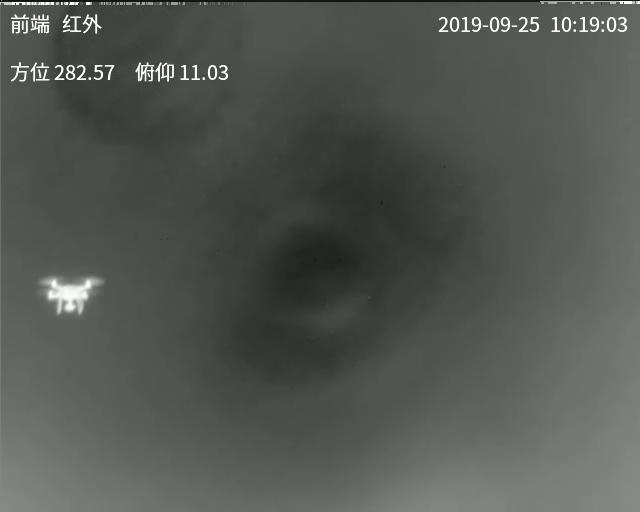uav: (36, 272, 106, 316)
